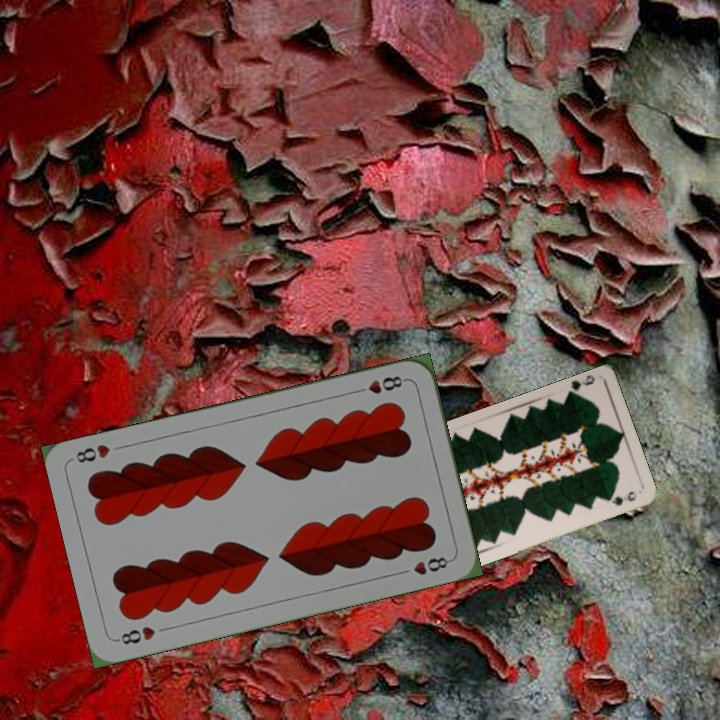G9: (563, 372, 597, 399)
H8: (351, 372, 409, 397), (112, 622, 158, 647)
